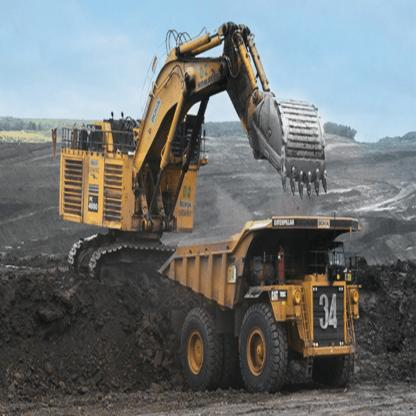dump_truck: (159, 193, 370, 412)
excavator: (49, 18, 333, 287)
